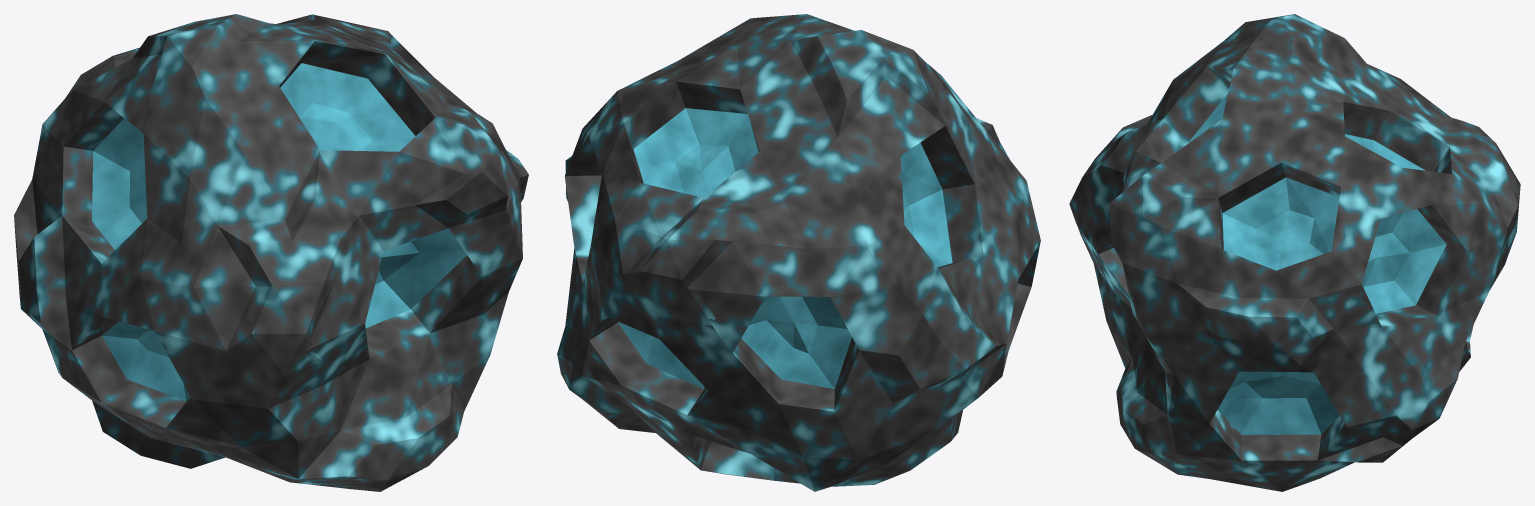
File: Thorium_Ore.fbx
3 renders of one model, left to right at view 1: azimuth 30°, elevation 25°; view 2: azimuth 150°, elevation 25°; view 3: azimuth 270°, elevation 25°, orthographic. The views are drawn at different scales.
Parts seen in each view (by area): view 1: SM_Thorium_Ore; view 2: SM_Thorium_Ore; view 3: SM_Thorium_Ore.
Part boxes in pixels (x1,y1,x2,y2): SM_Thorium_Ore: (14, 14, 528, 491); SM_Thorium_Ore: (557, 14, 1040, 491); SM_Thorium_Ore: (1069, 14, 1520, 491).
Size of the model in its own units: 49.12 by 48.77 by 48.32.
Materials: 2 (2 with a texture image).
